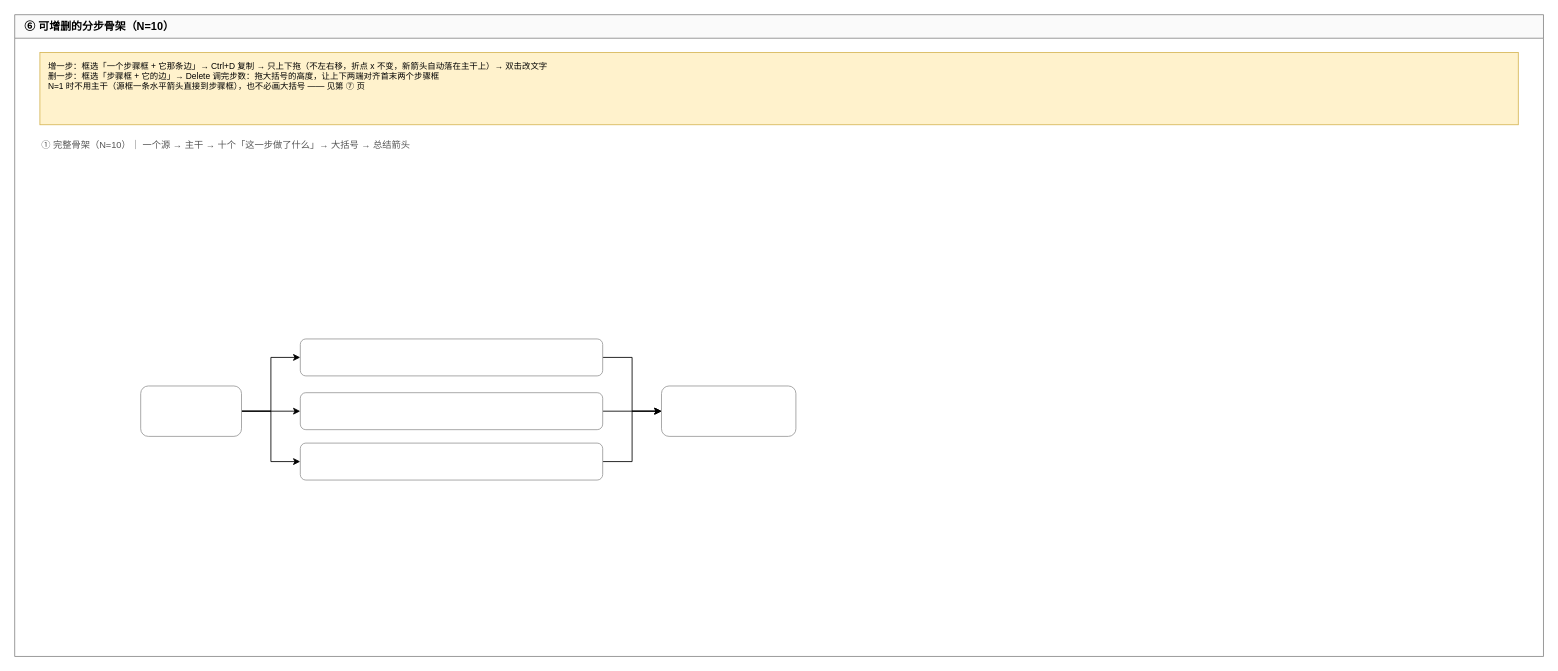
Image size: 1558x671. Some labels were removed from this diagram. Each missing label, with the box of its shape:
一个源 请求 / 事件: (140, 385, 242, 436)
总结 / 结论: (661, 385, 796, 436)
